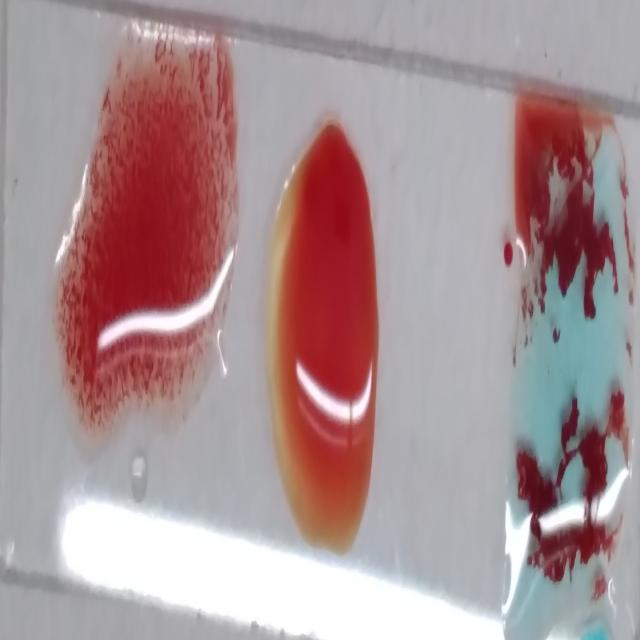A: (508, 127, 633, 606)
D: (64, 38, 229, 421)
